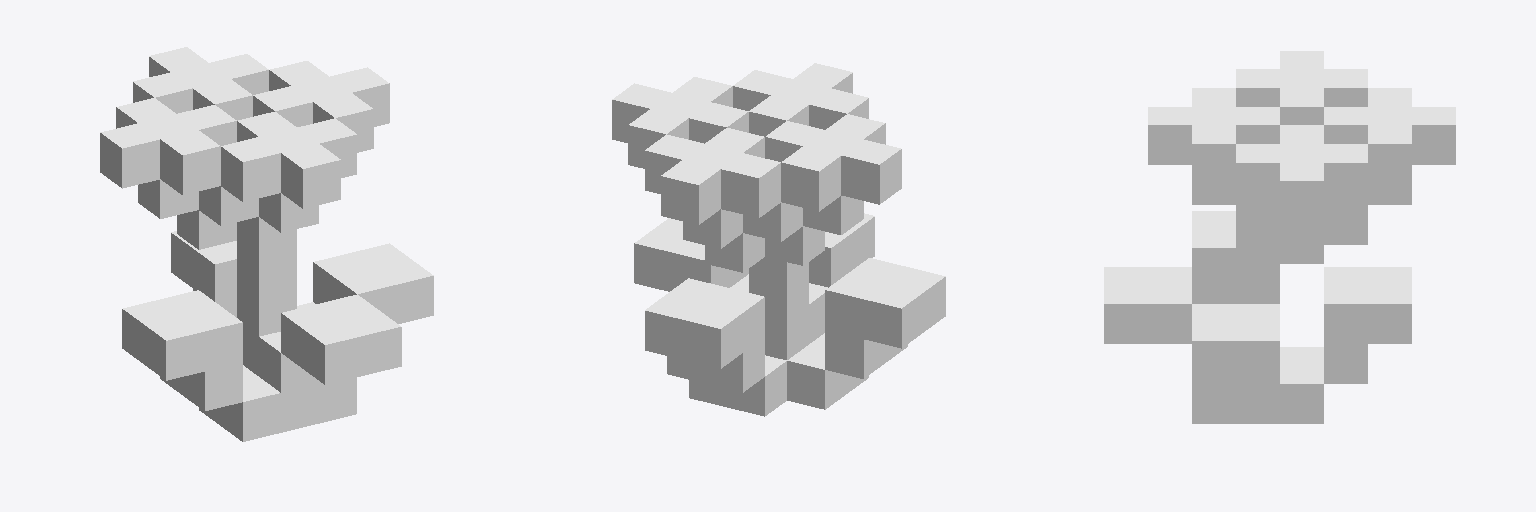
File: FlowerTile.obj
3 views of the same model, side by side, from view 1: azimuth 30°, elevation 25°; view 2: azimuth 150°, elevation 25°; view 3: azimuth 270°, elevation 25° (orthographic).
Visible parts, largest first — view 1: object 1; view 2: object 1; view 3: object 1.
Boxes of the visible parts, box(x1,y1,x2,y2) form: object 1: box(100, 47, 433, 441); object 1: box(612, 63, 945, 416); object 1: box(1104, 51, 1455, 423).
Size of the model in its own units: 0.7 by 0.7 by 0.8.